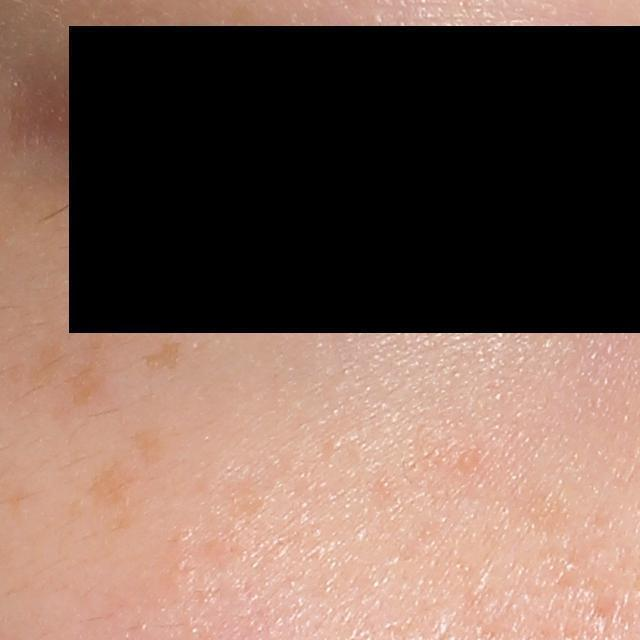comedo: (455, 449, 481, 473)
melasma: (24, 338, 113, 409), (89, 458, 143, 539), (137, 335, 186, 377), (132, 425, 166, 474)
